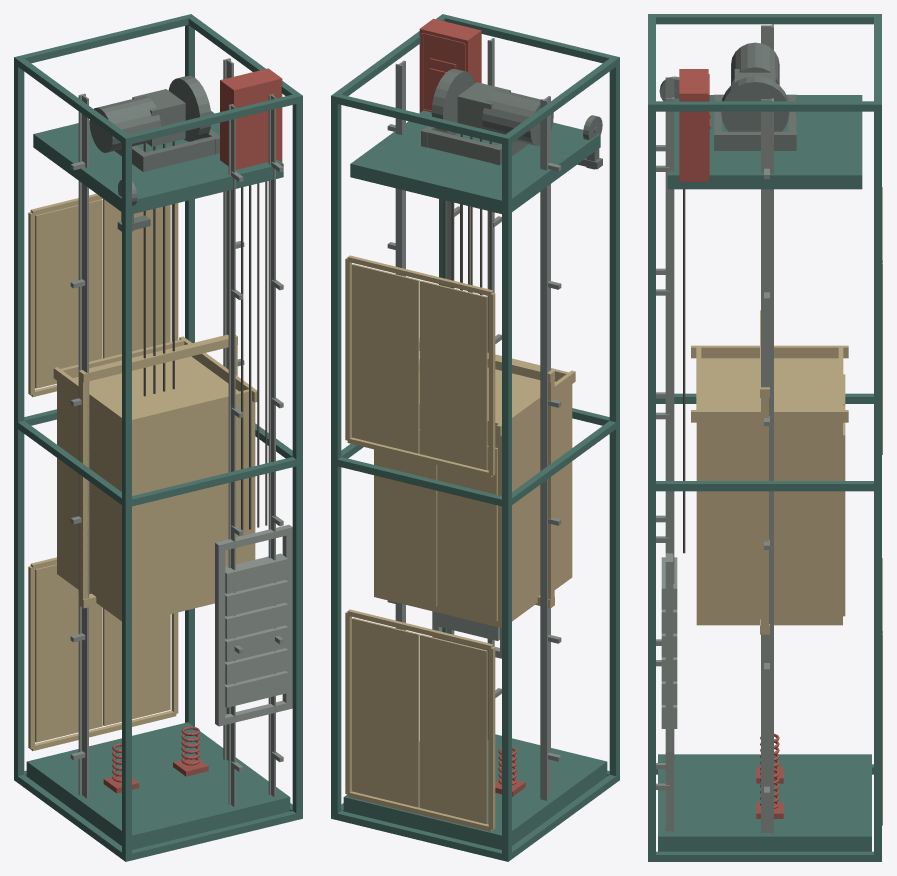
The model's file is genilift_elevator.glb.
The picture shows the model from 3 angles, left to right: view 1: azimuth 30°, elevation 25°; view 2: azimuth 150°, elevation 25°; view 3: azimuth 270°, elevation 25°; orthographic projection. The views are drawn at different scales.
Parts seen in each view (by area): view 1: shaft, car, landing_doors, rails, counterweight, machine, ropes, cabinet, buffers; view 2: landing_doors, shaft, car, rails, machine, cabinet, ropes, counterweight, governor; view 3: shaft, car, rails, machine, cabinet, counterweight, ropes, buffers, landing_doors.
Boxes of the visible parts, x1=… form: shaft: x1=14, y1=14, x2=302, y2=861; car: x1=53, y1=334, x2=257, y2=623; landing_doors: x1=28, y1=193, x2=178, y2=750; rails: x1=70, y1=58, x2=283, y2=806; counterweight: x1=215, y1=524, x2=292, y2=726; machine: x1=89, y1=75, x2=219, y2=171; ropes: x1=143, y1=141, x2=267, y2=530; cabinet: x1=220, y1=68, x2=282, y2=169; buffers: x1=103, y1=726, x2=208, y2=793; landing_doors: x1=345, y1=255, x2=495, y2=831; shaft: x1=331, y1=14, x2=619, y2=861; car: x1=374, y1=338, x2=575, y2=627; rails: x1=387, y1=38, x2=561, y2=800; machine: x1=421, y1=69, x2=553, y2=165; cabinet: x1=419, y1=18, x2=481, y2=112; ropes: x1=443, y1=134, x2=491, y2=294; counterweight: x1=432, y1=611, x2=501, y2=658; governor: x1=577, y1=115, x2=602, y2=169; shaft: x1=648, y1=14, x2=881, y2=861; car: x1=691, y1=310, x2=848, y2=634; rails: x1=656, y1=24, x2=773, y2=834; machine: x1=714, y1=42, x2=796, y2=150; cabinet: x1=679, y1=69, x2=710, y2=181; counterweight: x1=661, y1=553, x2=677, y2=751; ropes: x1=683, y1=189, x2=685, y2=553; buffers: x1=756, y1=733, x2=783, y2=818; landing_doors: x1=882, y1=187, x2=882, y2=825.
Bounding box in the file's own units: 2.2 × 8.67 × 2.41.
